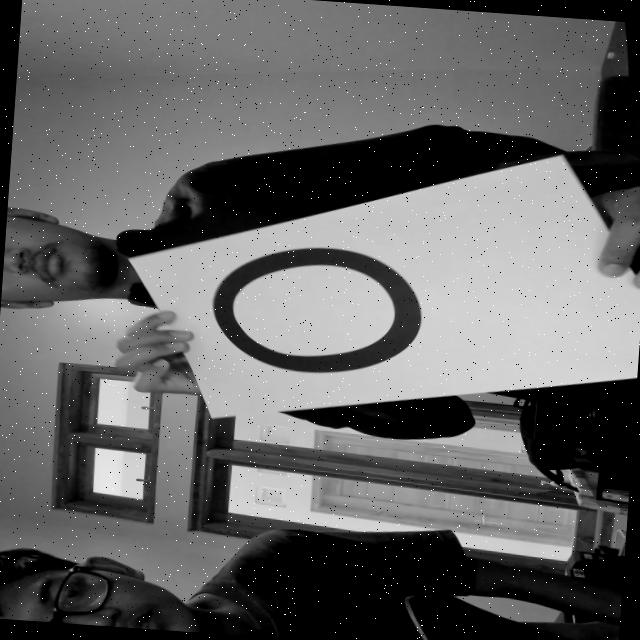o: (194, 229, 438, 386)
